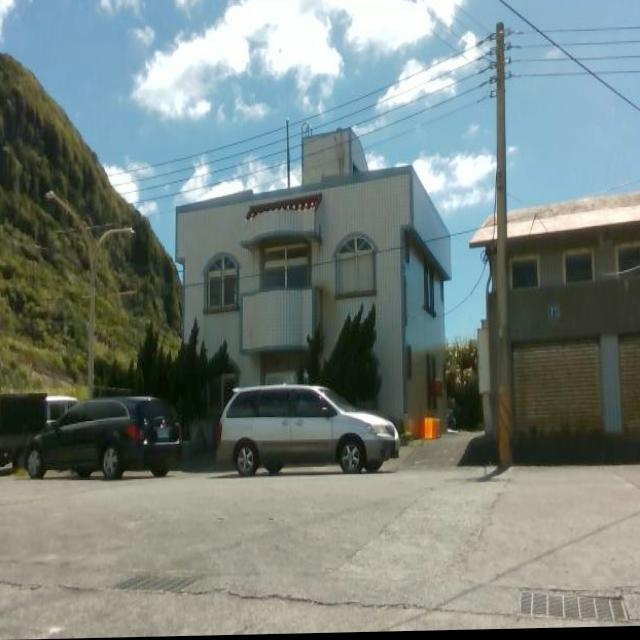pollute: (417, 419, 443, 445)
